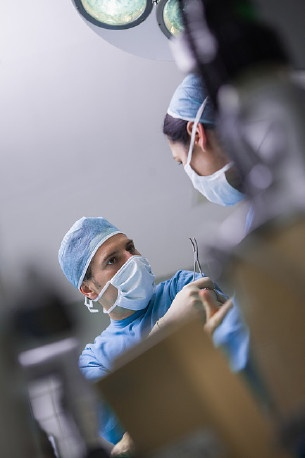Mask: (93, 237, 169, 314)
